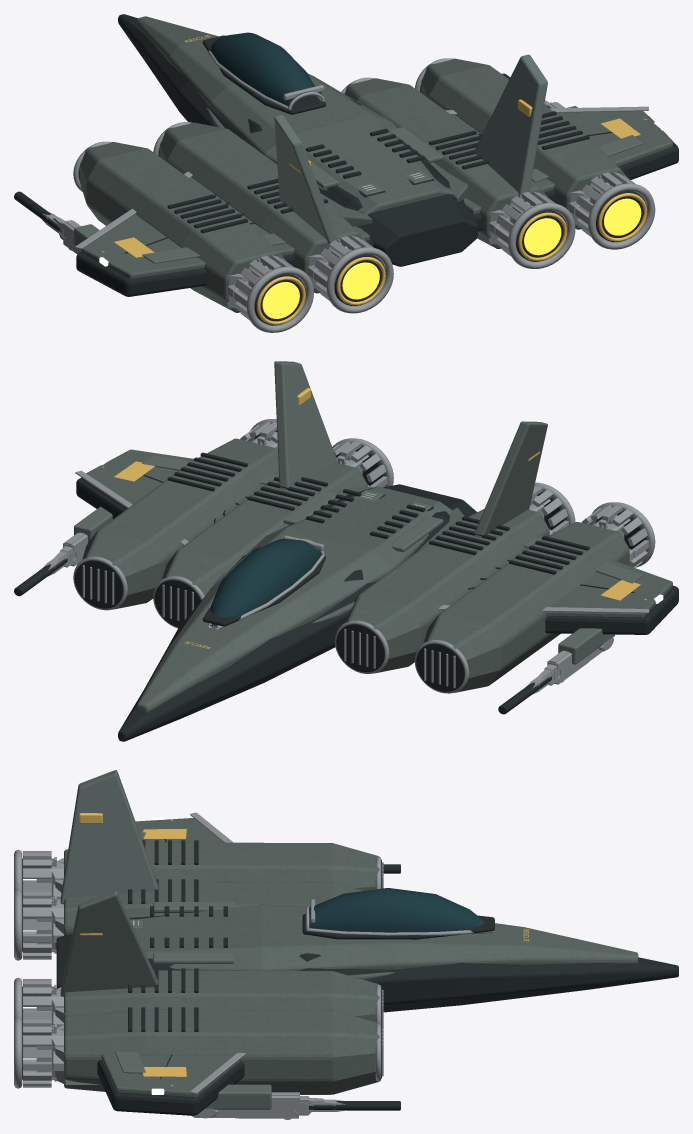
File: tempest.glb
3 renders of one model, top to bottom at view 1: azimuth 30°, elevation 25°; view 2: azimuth 150°, elevation 25°; view 3: azimuth 270°, elevation 25°, orthographic.
Visible parts, largest first — view 1: 主装甲_陶瓷金属涂层, 碳化结构与接缝, 拉丝钛合金, 次级装甲_深色钢, 热喷口, 镀膜座舱玻璃, 识别色; view 2: 主装甲_陶瓷金属涂层, 碳化结构与接缝, 次级装甲_深色钢, 拉丝钛合金, 镀膜座舱玻璃, 识别色; view 3: 主装甲_陶瓷金属涂层, 碳化结构与接缝, 次级装甲_深色钢, 拉丝钛合金, 镀膜座舱玻璃, 识别色.
Part boxes in pixels (x1,y1,x2,y2): 主装甲_陶瓷金属涂层: (80,16,672,312); 碳化结构与接缝: (14,14,678,325); 拉丝钛合金: (42,50,655,332); 次级装甲_深色钢: (74,54,642,263); 热喷口: (262,198,641,318); 镀膜座舱玻璃: (210,32,314,106); 识别色: (114,35,647,324); 主装甲_陶瓷金属涂层: (81,438,672,712); 碳化结构与接缝: (14,430,678,741); 次级装甲_深色钢: (74,361,642,664); 拉丝钛合金: (42,419,655,694); 镀膜座舱玻璃: (210,538,321,627); 识别色: (114,388,640,648); 主装甲_陶瓷金属涂层: (64,818,638,1097); 碳化结构与接缝: (22,839,678,1115); 次级装甲_深色钢: (60,770,271,1109); 拉丝钛合金: (14,812,494,1119); 镀膜座舱玻璃: (309,888,484,932); 识别色: (79,813,528,1076).
Size of the model in its own units: 8.29 by 2.33 by 8.3.
Materials: 9 (1 with a texture image).
